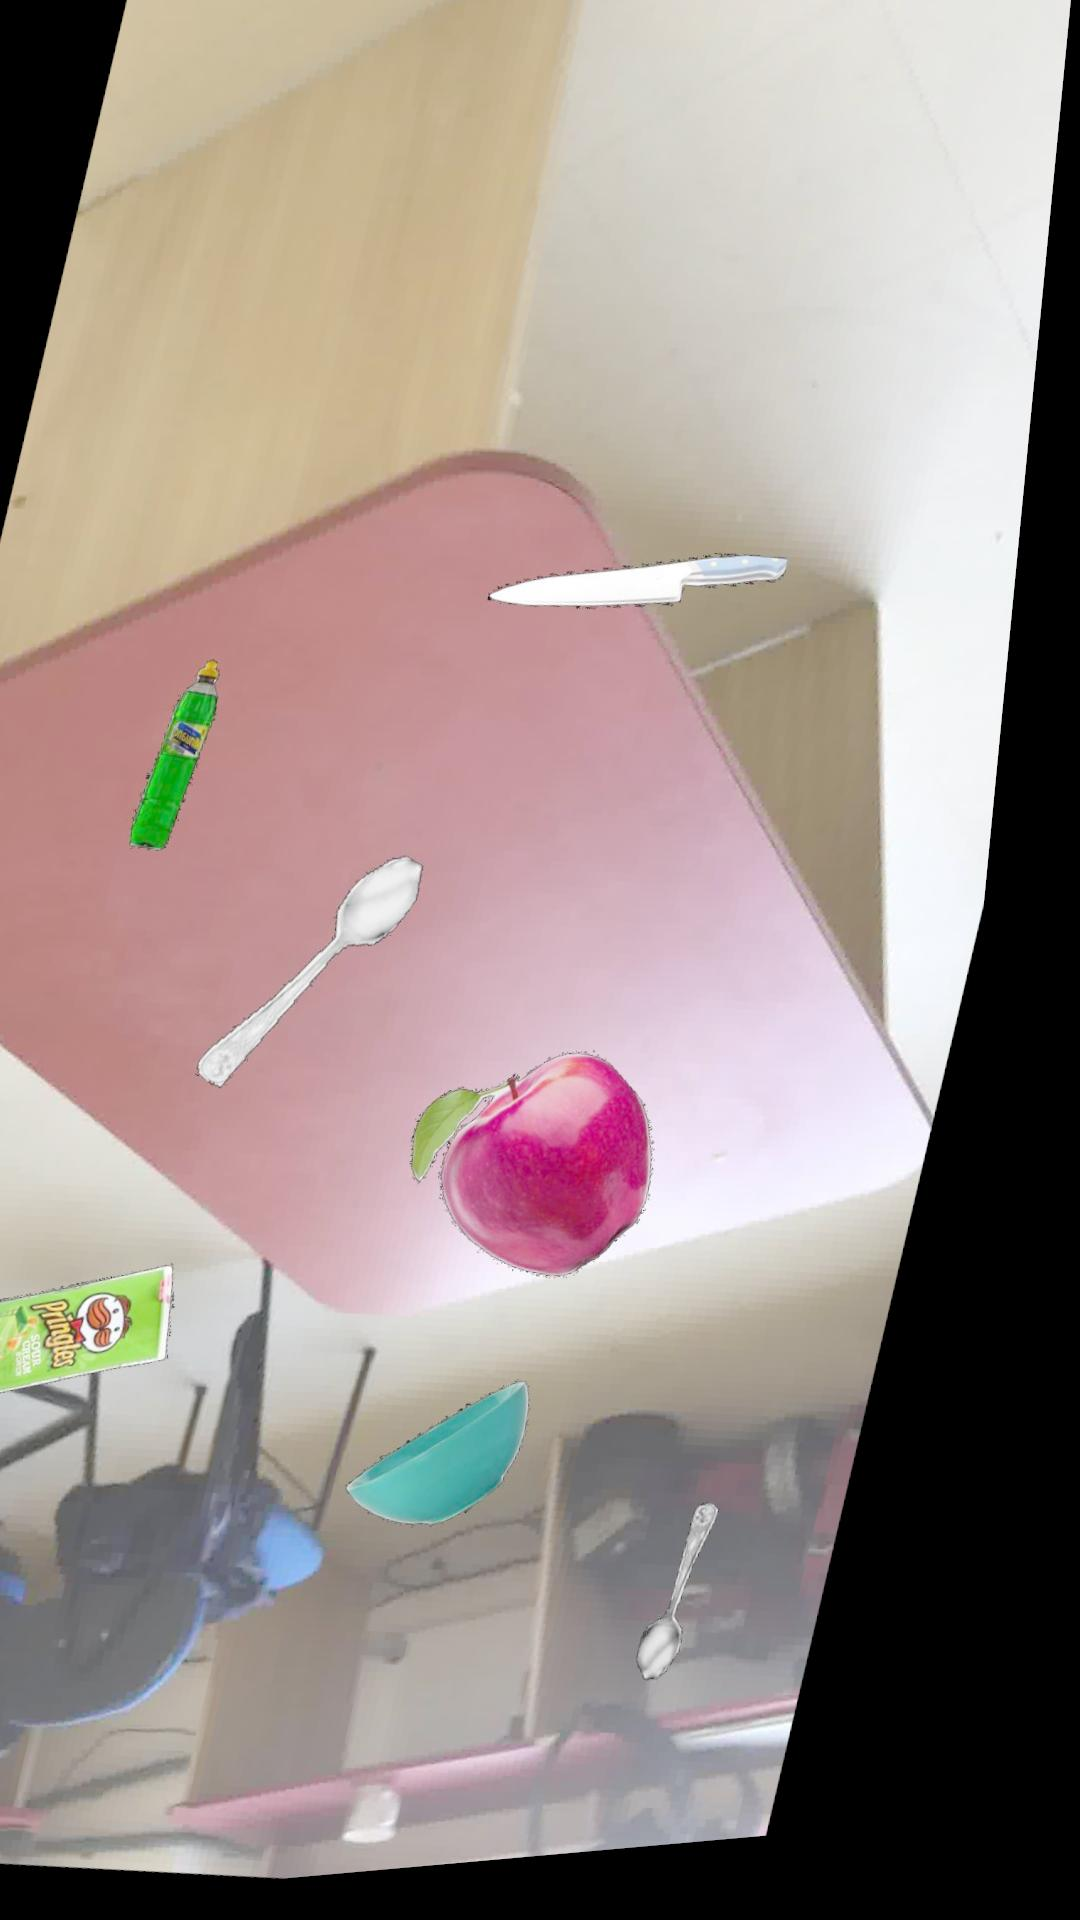apple: (433, 1067, 675, 1291)
bowl: (375, 1394, 558, 1536)
cleaner: (145, 666, 232, 856)
knife: (498, 570, 799, 622)
pringles: (0, 1271, 199, 1402)
spoon: (218, 865, 440, 1096), (670, 1519, 750, 1696)
